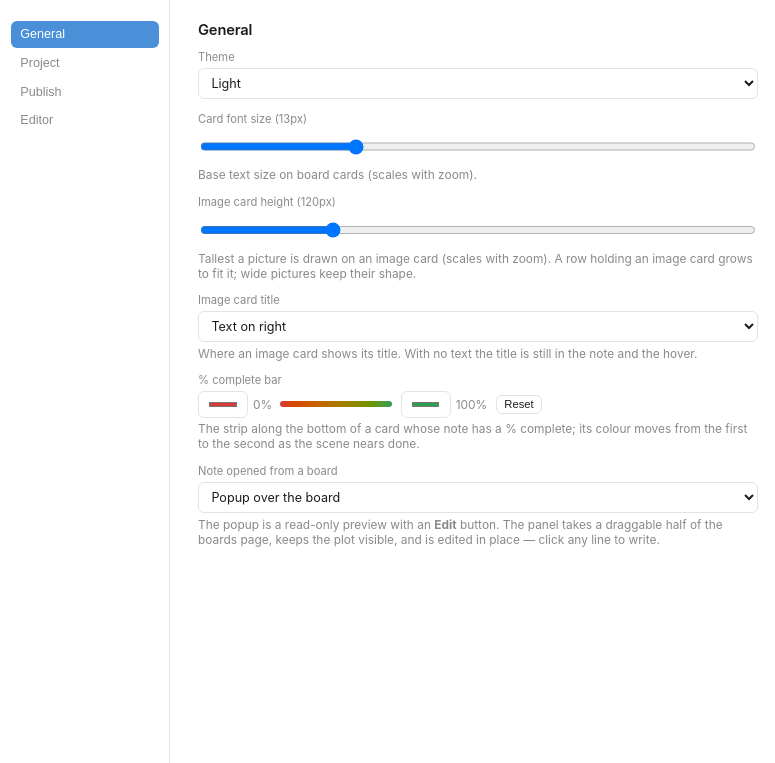
Test case: Settings — project metadata › shows stored values
The width and height of the screenshot is (775, 763).
Click the tab "Project" at [84, 63], box [10, 50, 158, 76]
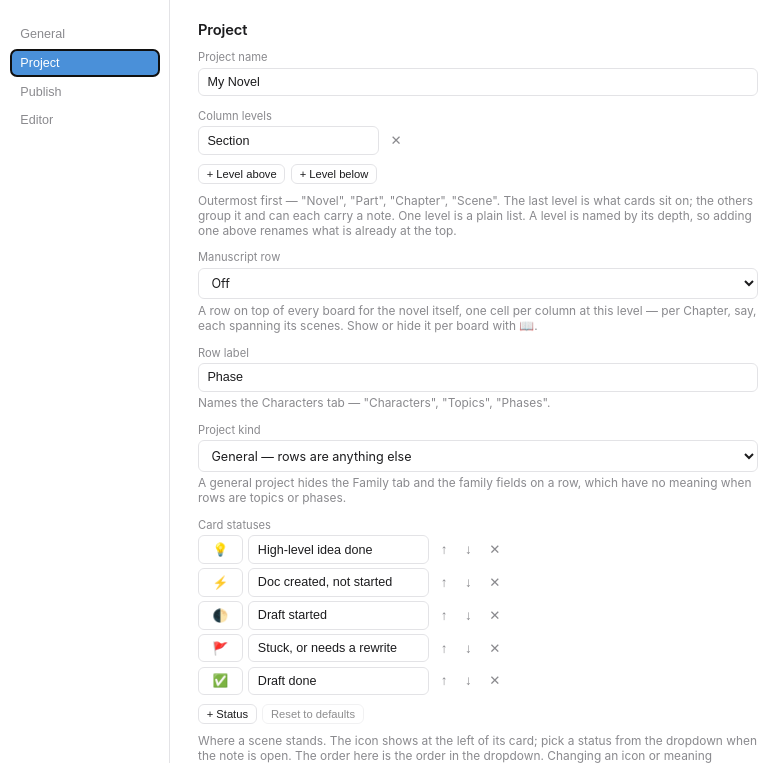
Result: the field labelled "Project name" is not empty at [198, 68, 758, 96]
Result: the field labelled "Row label" holds "Phase" at [198, 363, 758, 392]
Result: the dropdown labelled "Project kind" shows "General — rows are anything else" at [198, 440, 758, 472]
